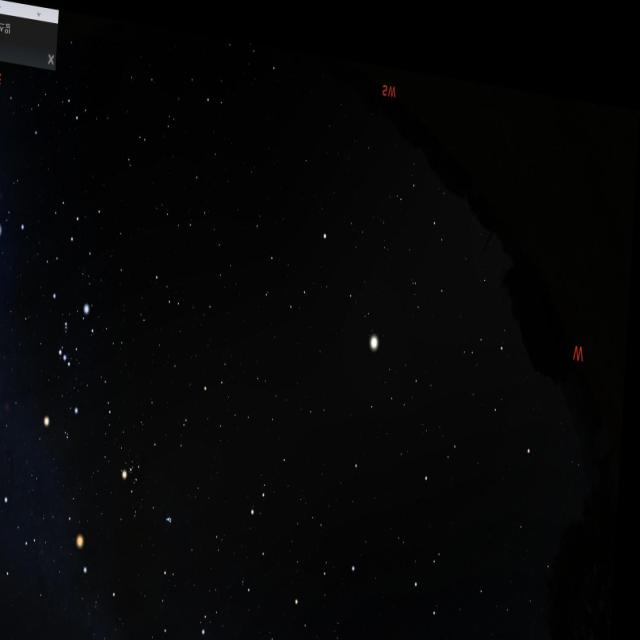gemini: (0, 508, 61, 640)
orion: (38, 276, 99, 430)
pleiades: (165, 490, 188, 532)
taurus: (114, 434, 195, 551)
